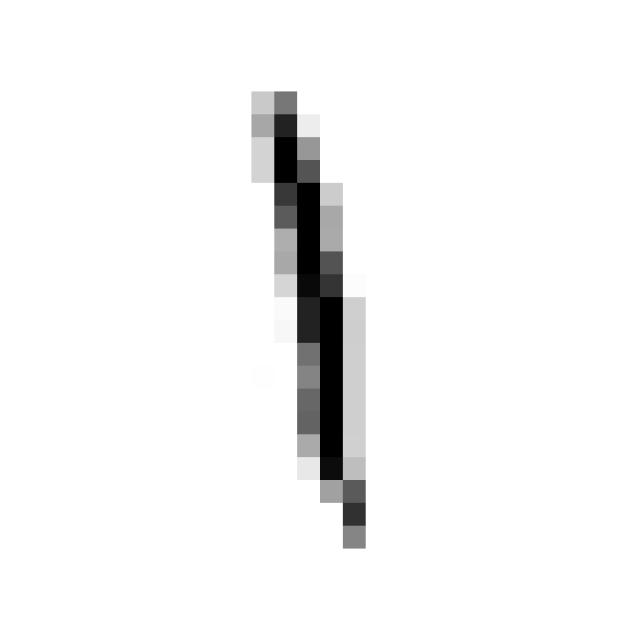1 -one-: (233, 69, 397, 568)
